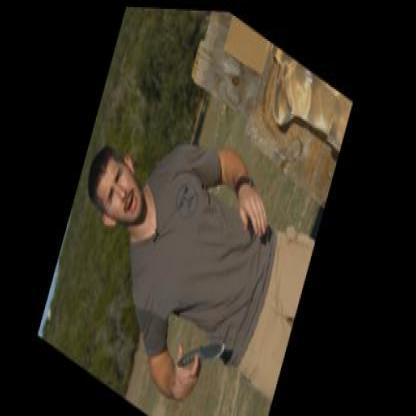knife: (172, 309, 234, 399)
